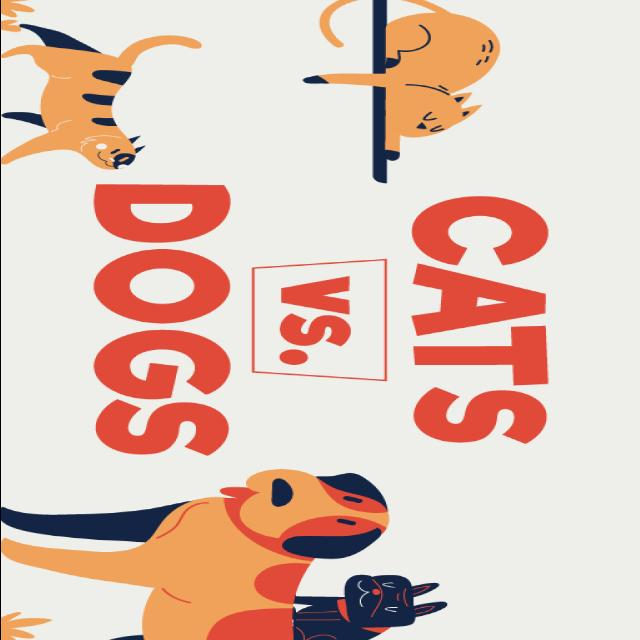cat: (0, 21, 201, 178), (369, 2, 502, 166)
dog: (0, 451, 388, 640), (293, 573, 453, 640)
